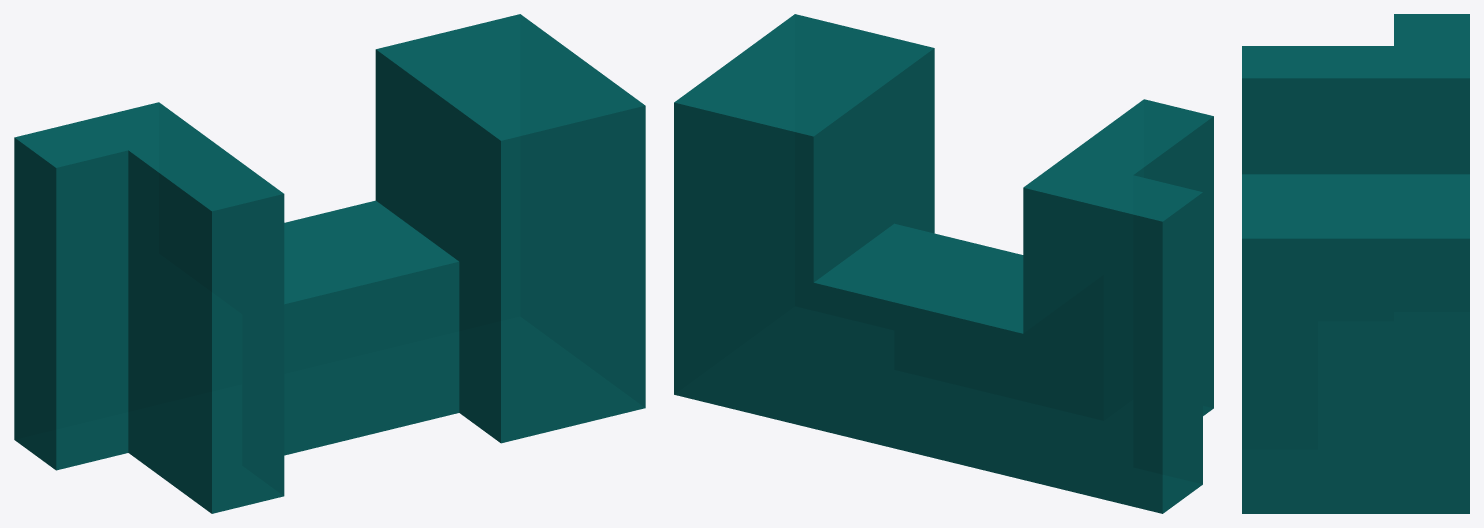
3 views of the same model, side by side, from view 1: azimuth 30°, elevation 25°; view 2: azimuth 150°, elevation 25°; view 3: azimuth 270°, elevation 25° (orthographic). The views are drawn at different scales.
Visible parts, largest first — view 1: SketchUp; view 2: SketchUp; view 3: SketchUp.
Boxes of the visible parts, left/top/right/bottom form: SketchUp: left=14, top=14, right=645, bottom=513; SketchUp: left=674, top=14, right=1213, bottom=513; SketchUp: left=1242, top=14, right=1469, bottom=513.
Bounding box in the file's own units: 276 × 118 × 157.
